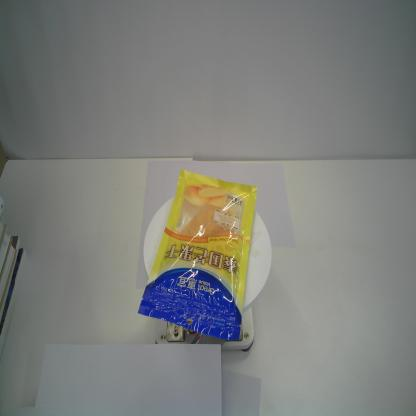Dried Fruit: (136, 168, 258, 341)
